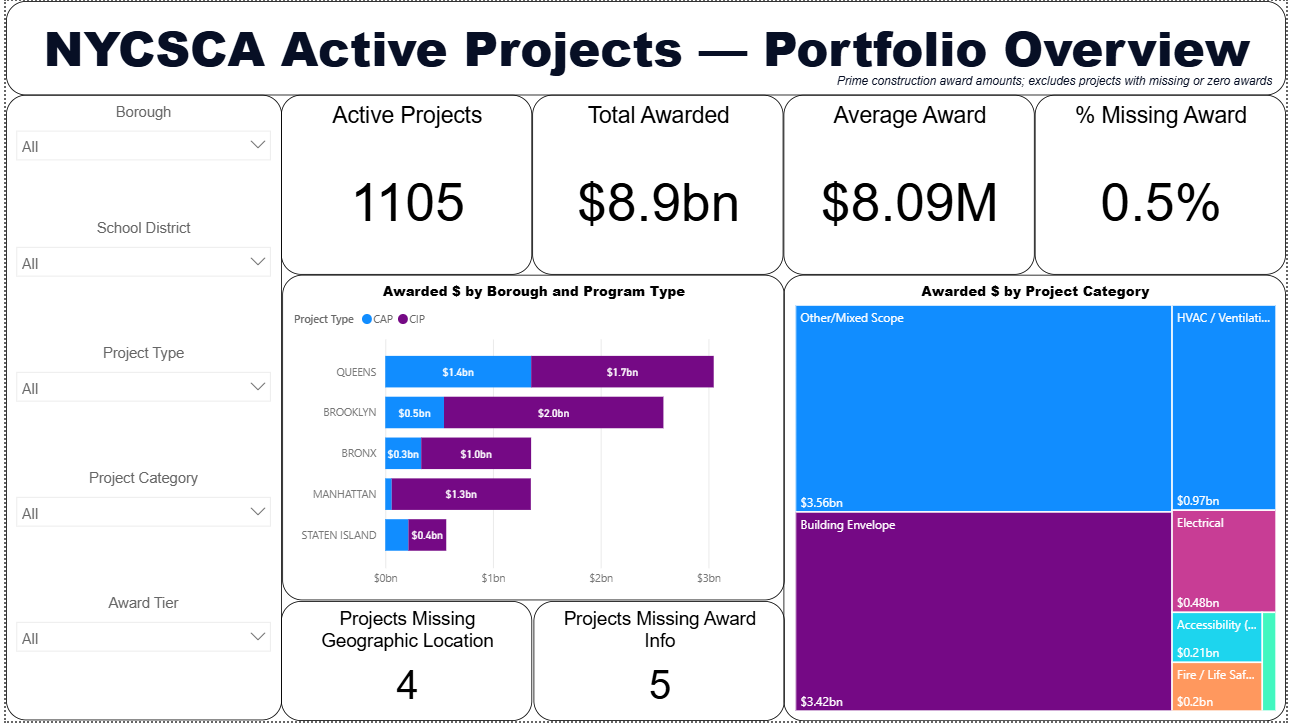

The dashboard page shown, as its layout file describes it:
{"tool":"powerbi","page":{"name":"Portfolio Overview","canvas":[1280,720],"ordinal":0},"visuals":[{"type":"card","title":"Total Awarded","fields":{"Values":["Measures_Table.Total Awarded $"]},"box":[526.6,93.7,251.1,179.8],"z":0},{"type":"card","title":"Active Projects","fields":{"Values":["Measures_Table.Active Projects"]},"box":[275.5,93.7,251,179.8],"z":1000},{"type":"card","title":"Average Award","fields":{"Values":["Measures_Table.Average Award $"]},"box":[777.8,93.7,251.1,179.8],"z":2000},{"type":"card","title":"% Missing Award","fields":{"Values":["Measures_Table.% Missing Award"]},"box":[1028.9,93.7,251.1,179.8],"z":3000},{"type":"textbox","box":[0,0,1280,94.3],"z":4000},{"type":"shape","box":[0,94.3,275.7,625.7],"z":5000},{"type":"slicer","title":"Borough","fields":{"Values":["Fact_ActiveProjects_All.Borough"]},"box":[0,102.5,275,116.2],"z":6000},{"type":"slicer","title":"School District","fields":{"Values":["Fact_ActiveProjects_All.School District"]},"box":[0,218.8,275,125],"z":7000},{"type":"slicer","title":"Project Type","fields":{"Values":["Fact_ActiveProjects_All.Project Type"]},"box":[0,343.8,275,125],"z":8000},{"type":"slicer","title":"Project Category","fields":{"Values":["Fact_ActiveProjects_All.Project Category"]},"box":[0,468.8,275,125],"z":9000},{"type":"slicer","title":"Award Tier","fields":{"Values":["Fact_ActiveProjects_All.Award Tier"]},"box":[0,593.8,275,125],"z":10000},{"type":"barChart","title":"Awarded $ by Borough and Program Type","fields":{"Category":["Fact_ActiveProjects_All.Borough"],"Y":["Measures_Table.Total Awarded $"],"Series":["Fact_ActiveProjects_All.Project Type"]},"box":[275.7,274.3,502,325.7],"z":11000},{"type":"treemap","title":"Awarded $ by Project Category","fields":{"Group":["Fact_ActiveProjects_All.Project Category"],"Values":["Measures_Table.Total Awarded $"]},"box":[777.5,273.8,502.5,446.2],"z":12000},{"type":"card","title":"Projects Missing Geographic Location","fields":{"Values":["Measures_Table.Projects Missing Geo"]},"box":[275,600,251.2,120],"z":13000},{"type":"card","title":"Projects Missing Award Info","fields":{"Values":["Measures_Table.Projects Missing Award"]},"box":[527.5,600,251.2,120],"z":14000},{"type":"textbox","box":[700,63.8,571.2,61.2],"z":15000}]}

Visuals, with their boxes in screenshot pixels (x1, y1, x2, y2), scaled from the page's 1280x720 canvas onto the 1296x728 screenshot:
"Total Awarded" card: [533,95,787,277]
"Active Projects" card: [279,95,533,277]
"Average Award" card: [788,95,1042,277]
"% Missing Award" card: [1042,95,1295,277]
textbox: [0,0,1295,95]
shape: [0,95,279,727]
"Borough" slicer: [0,104,278,221]
"School District" slicer: [0,221,278,348]
"Project Type" slicer: [0,348,278,474]
"Project Category" slicer: [0,474,278,600]
"Award Tier" slicer: [0,600,278,727]
"Awarded $ by Borough and Program Type" barChart: [279,277,787,607]
"Awarded $ by Project Category" treemap: [787,277,1295,727]
"Projects Missing Geographic Location" card: [278,607,533,727]
"Projects Missing Award Info" card: [534,607,788,727]
textbox: [709,65,1287,126]
